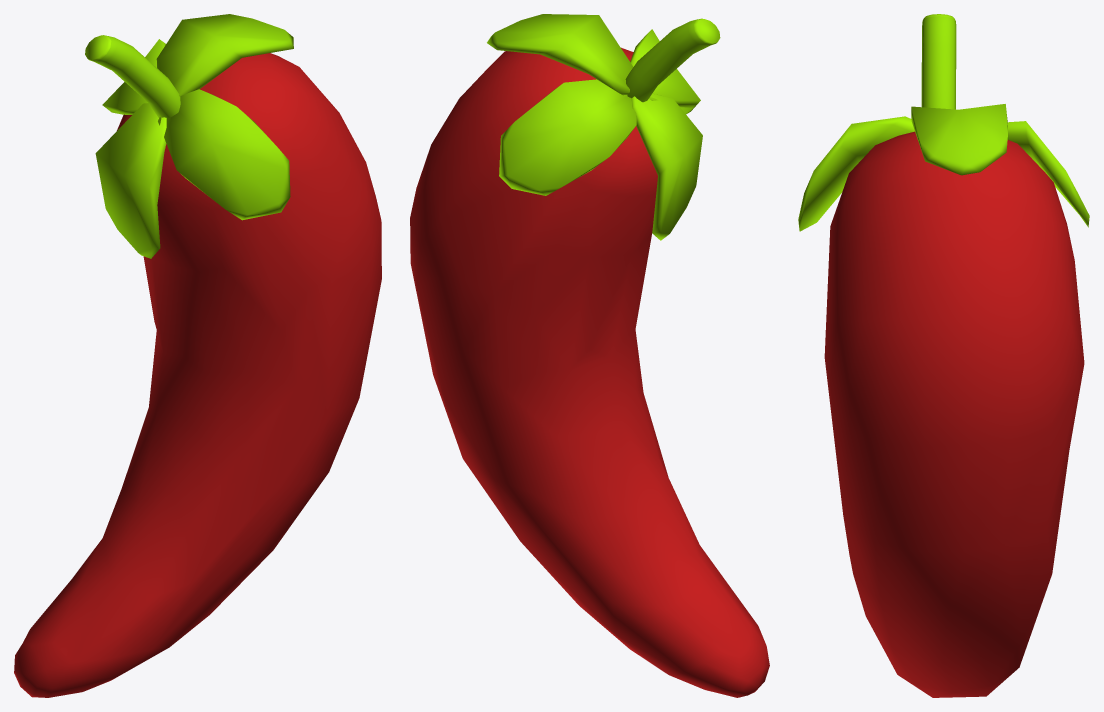
File: red_pepper.glb
The picture shows the model from 3 angles, left to right: view 1: azimuth 30°, elevation 25°; view 2: azimuth 150°, elevation 25°; view 3: azimuth 270°, elevation 25°; orthographic projection. The views are drawn at different scales.
Visible parts, largest first — view 1: red_pepper; view 2: red_pepper; view 3: red_pepper.
Part boxes in pixels (x1,y1,x2,y2): red_pepper: (14, 14, 381, 697); red_pepper: (410, 14, 769, 697); red_pepper: (798, 14, 1089, 697).
Bounding box in the file's own units: 0.3673 × 0.6775 × 0.2604.
Materials: 1 (1 with a texture image).
